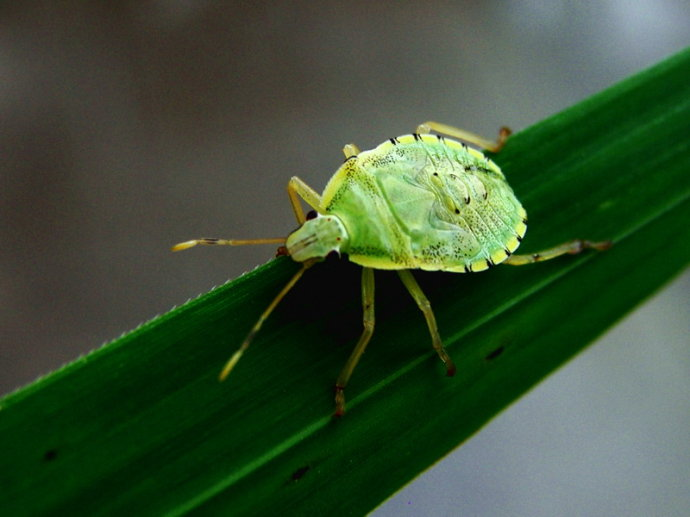chunchong: (234, 116, 571, 319)
